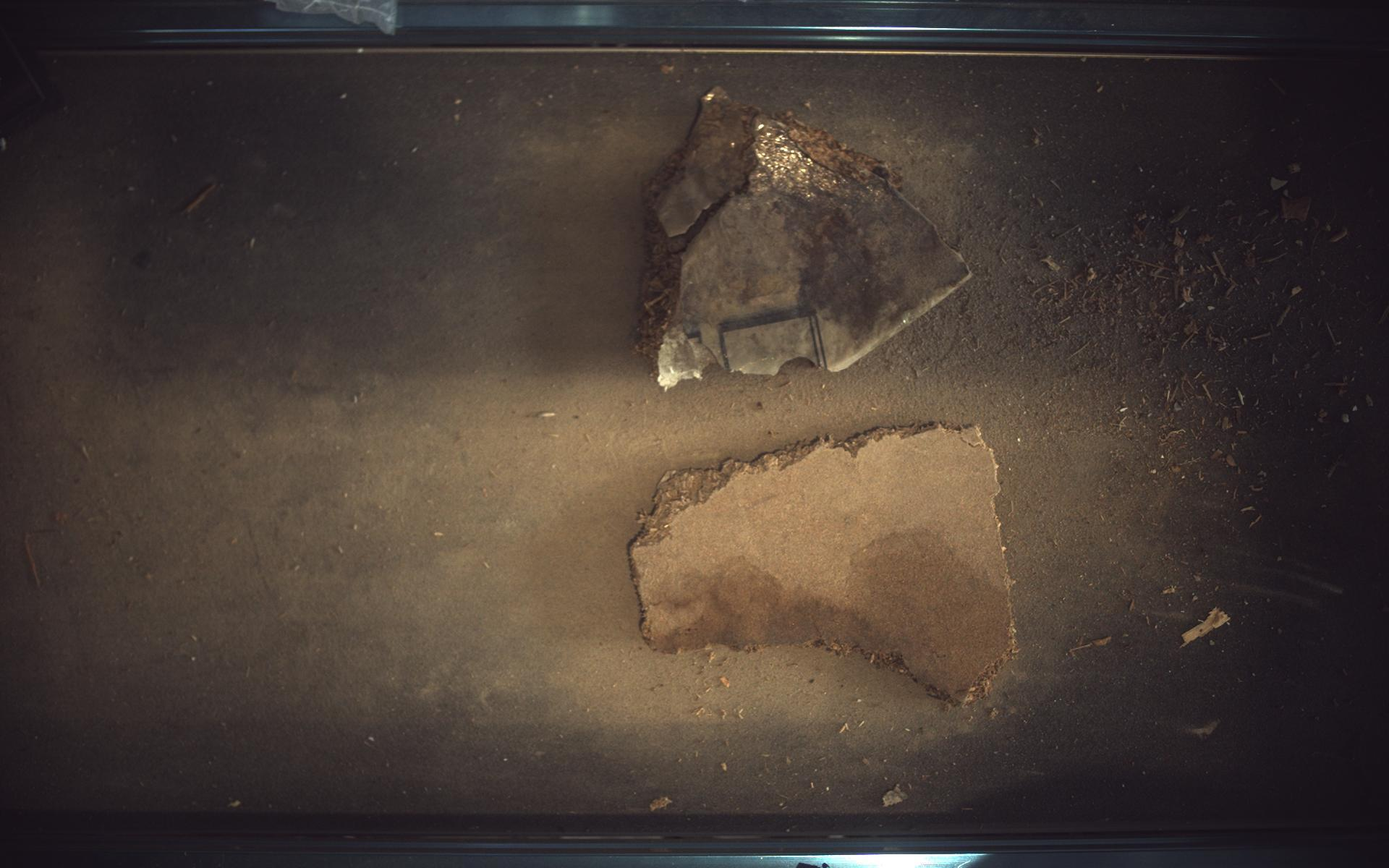wood: (630, 425, 1018, 705), (638, 85, 972, 388)
